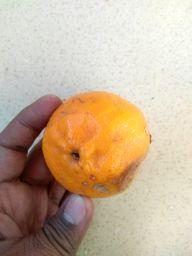Unripe: (41, 93, 151, 197)
